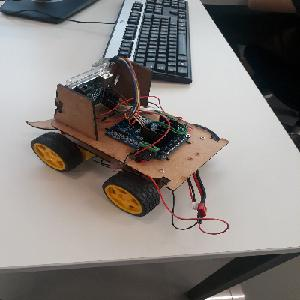Robot: (26, 56, 230, 216)
